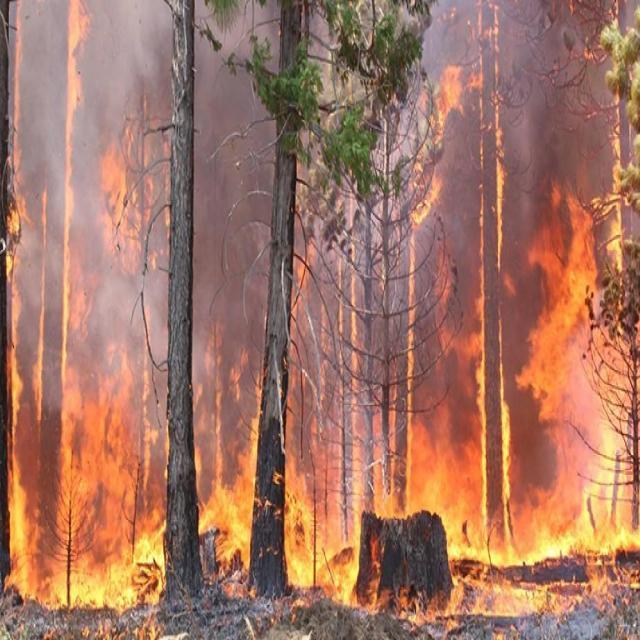Fire: (193, 1, 640, 631), (8, 4, 170, 640)
Smoke: (296, 1, 640, 526), (8, 1, 168, 450), (193, 1, 280, 502)
